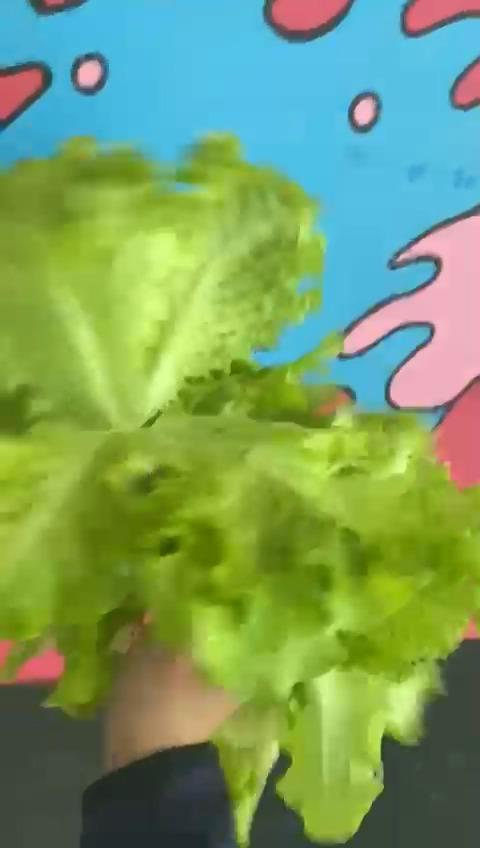Healthy Lettuce: (0, 129, 480, 846)
